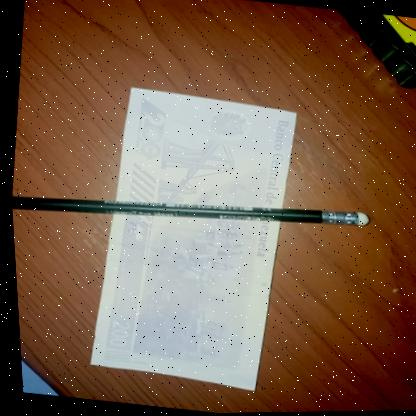two_hundred-back-vef: (70, 81, 309, 396)
